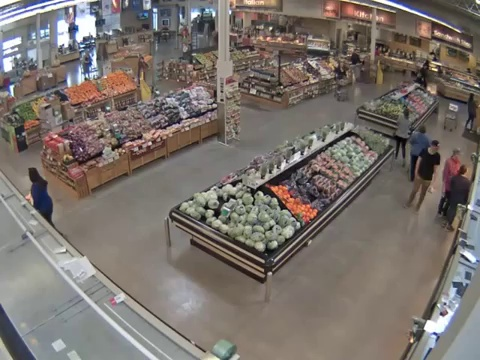face: (432, 143, 439, 152)
